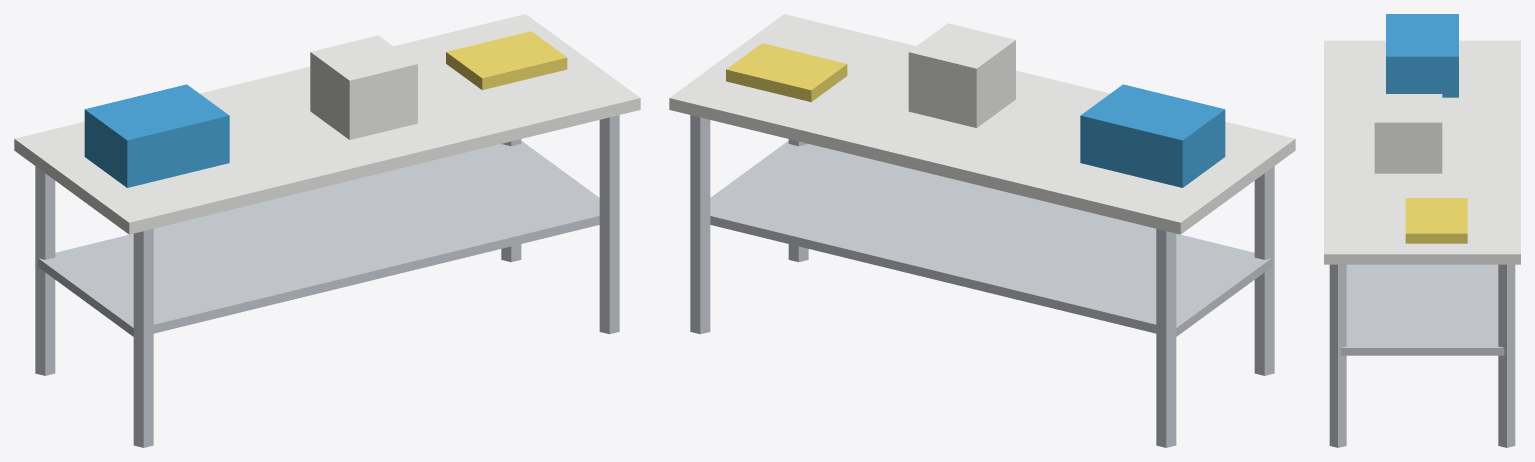
The model's file is velodrome-and-track-cycling-soigneurs-table-aeab0c46__38028.glb.
The picture shows the model from 3 angles, left to right: view 1: azimuth 30°, elevation 25°; view 2: azimuth 150°, elevation 25°; view 3: azimuth 270°, elevation 25°; orthographic projection. The views are drawn at different scales.
Visible parts, largest first — view 1: soigneurs-table-steel, soigneurs-table-chalk, soigneurs-table-azure, soigneurs-table-canary; view 2: soigneurs-table-steel, soigneurs-table-chalk, soigneurs-table-azure, soigneurs-table-canary; view 3: soigneurs-table-chalk, soigneurs-table-steel, soigneurs-table-azure, soigneurs-table-canary.
Part boxes in pixels (x1,y1,x2,y2): soigneurs-table-steel: [35, 115, 619, 447]; soigneurs-table-chalk: [14, 14, 640, 234]; soigneurs-table-azure: [84, 84, 229, 187]; soigneurs-table-canary: [446, 31, 567, 90]; soigneurs-table-steel: [690, 115, 1274, 447]; soigneurs-table-chalk: [669, 14, 1295, 234]; soigneurs-table-azure: [1080, 84, 1225, 187]; soigneurs-table-canary: [726, 43, 847, 101]; soigneurs-table-chalk: [1324, 40, 1520, 264]; soigneurs-table-steel: [1329, 264, 1515, 447]; soigneurs-table-azure: [1386, 14, 1458, 97]; soigneurs-table-canary: [1405, 198, 1467, 243].
Bounding box in the file's own units: 1.8 × 0.98 × 0.6999.
